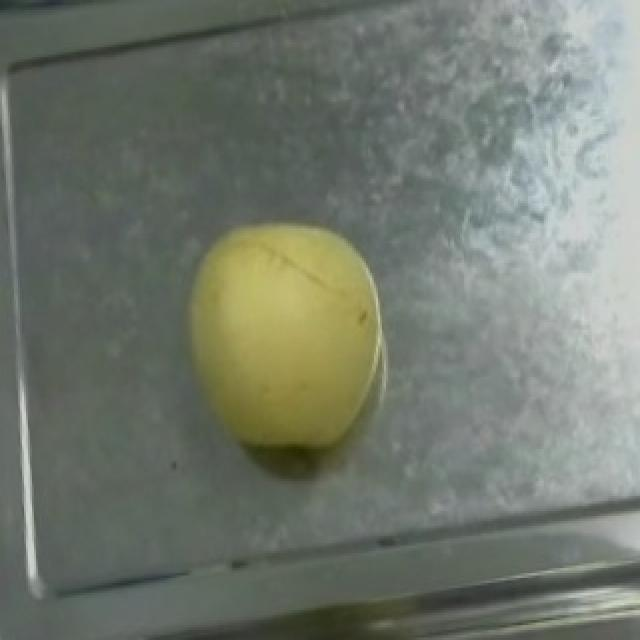Fruit: (162, 194, 402, 476)
